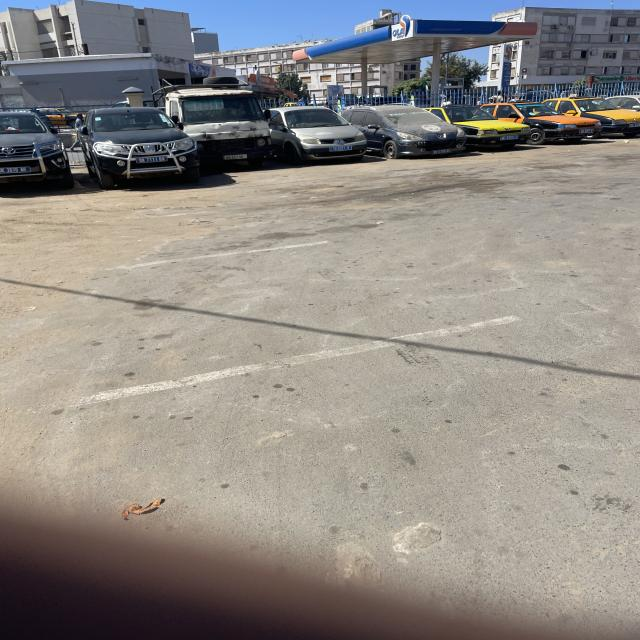particulier: (79, 107, 201, 190), (164, 85, 273, 169), (343, 106, 468, 160), (269, 107, 368, 166), (1, 111, 74, 189)
taxi: (483, 104, 603, 145), (428, 106, 529, 149), (544, 97, 640, 139), (38, 109, 78, 126)
